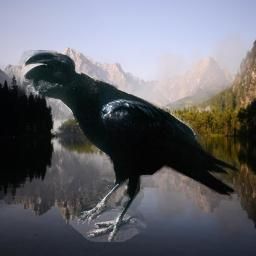Crow: (18, 50, 239, 242)
